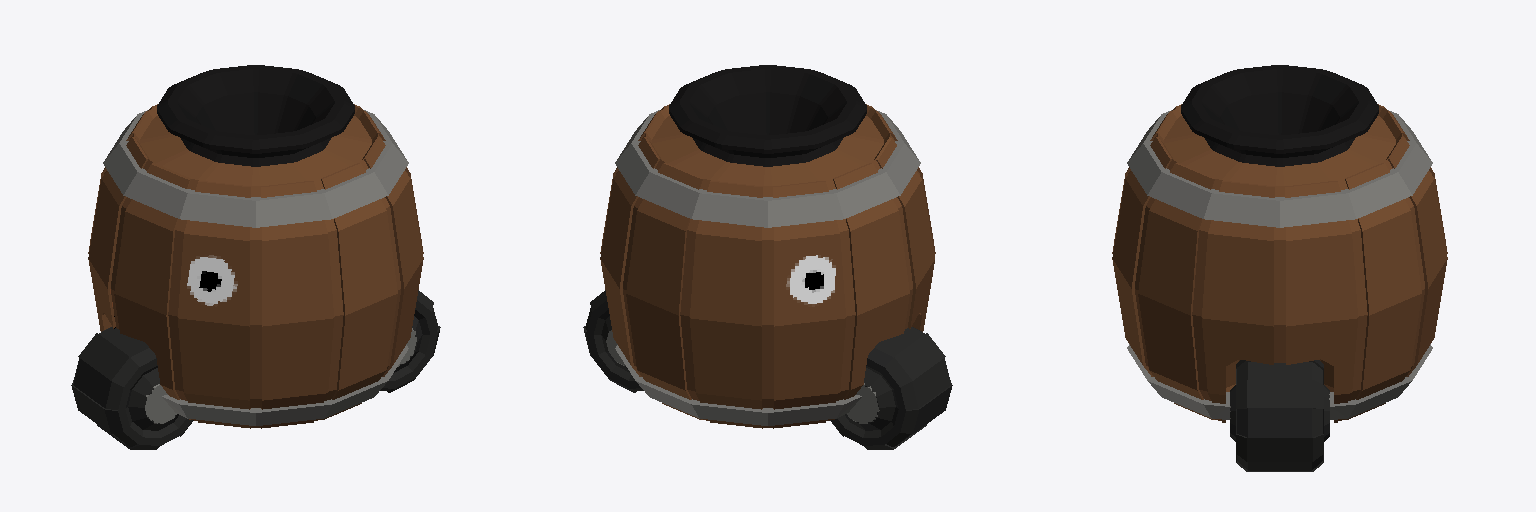
The picture shows the model from 3 angles: view 1: azimuth 30°, elevation 25°; view 2: azimuth 150°, elevation 25°; view 3: azimuth 270°, elevation 25°; orthographic projection.
Parts seen in each view (by area): view 1: 円柱; view 2: 円柱; view 3: 円柱.
Boxes of the visible parts, <box> form: 円柱: <box>71,65,440,449</box>; 円柱: <box>583,65,952,449</box>; 円柱: <box>1112,65,1447,471</box>.
Size of the model in its own units: 2.54 by 2.22 by 2.19.
Materials: 1 (1 with a texture image).